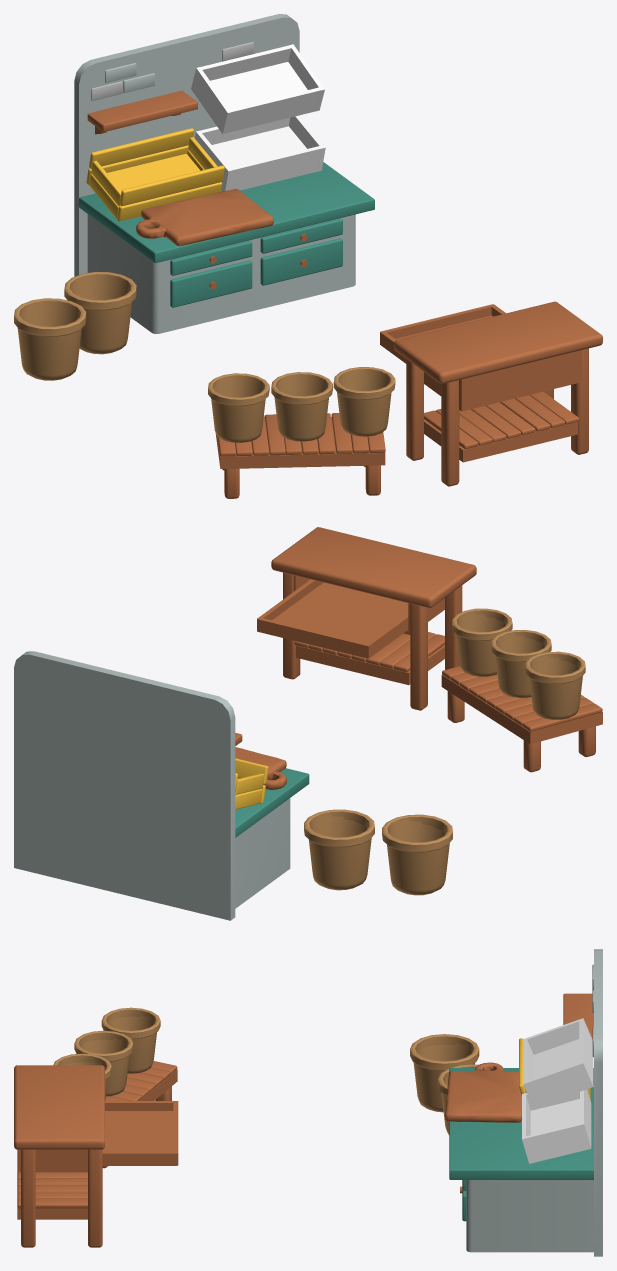
Rendered from tools_updated.fbx.
3 views of the same model, one above another, from view 1: azimuth 30°, elevation 25°; view 2: azimuth 150°, elevation 25°; view 3: azimuth 270°, elevation 25° (orthographic). The views are drawn at different scales.
Visible parts, largest first — view 1: LEFT, tools, 우산1, 우산3, 우산2; view 2: LEFT, tools, 우산3, 우산1, 우산2; view 3: LEFT, tools, 우산3, 우산2, 우산1.
Part boxes in pixels (x1,y1,x2,y2): LEFT: (14,14,374,380); tools: (215,301,602,498); 우산1: (333,367,395,436); 우산3: (208,373,269,442); 우산2: (271,372,332,441); LEFT: (14,651,452,920); tools: (257,527,602,772); 우산3: (525,651,585,719); 우산1: (452,608,512,676); 우산2: (491,630,551,697); LEFT: (410,949,602,1256); tools: (14,1061,178,1247); 우산3: (101,1007,160,1073); 우산2: (74,1030,133,1096); 우산1: (53,1053,111,1100).
Bounding box in the file's own units: 143 × 83.81 × 212.
